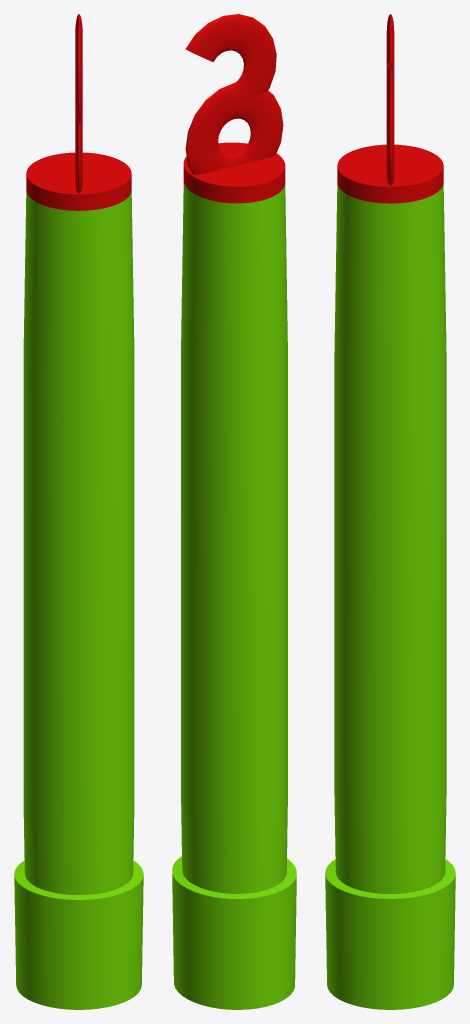
File: Glowstick.fbx
3 views of the same model, side by side, from view 1: azimuth 90°, elevation 25°; view 2: azimuth 210°, elevation 25°; view 3: azimuth 270°, elevation 25° (orthographic).
Visible parts, largest first — view 1: Top1; view 2: Top1; view 3: Top1.
Part boxes in pixels (x1=…): Top1: x1=14, y1=14, x2=143, y2=1009; Top1: x1=172, y1=14, x2=296, y2=1009; Top1: x1=325, y1=14, x2=455, y2=1009.
Bounding box in the file's own units: 30.14 × 262 × 31.96.
